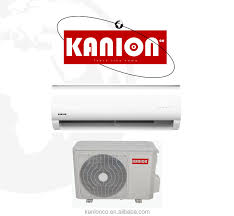ac: (49, 84, 185, 134)
